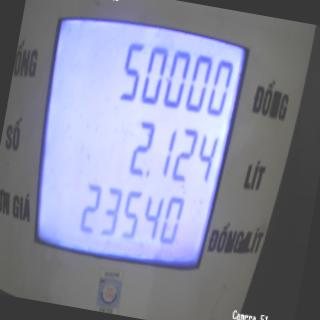screen: (12, 0, 258, 296)
